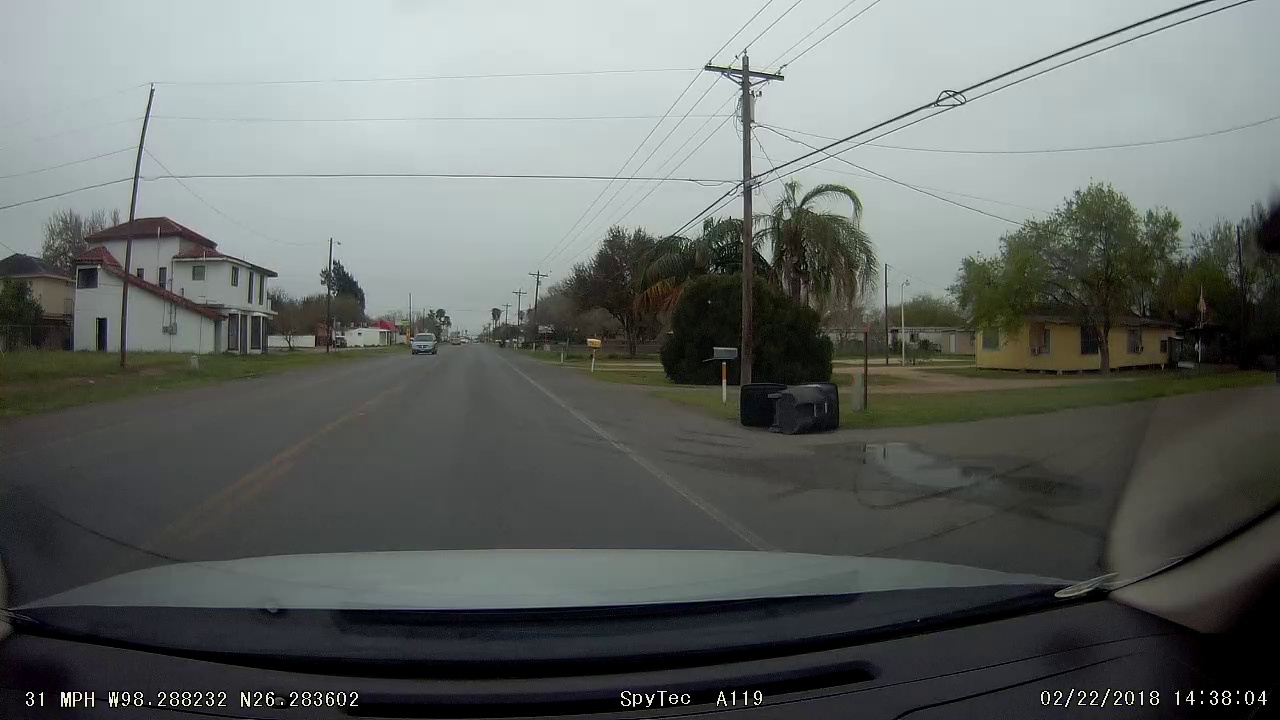blurredLine: (243, 424, 332, 513)
